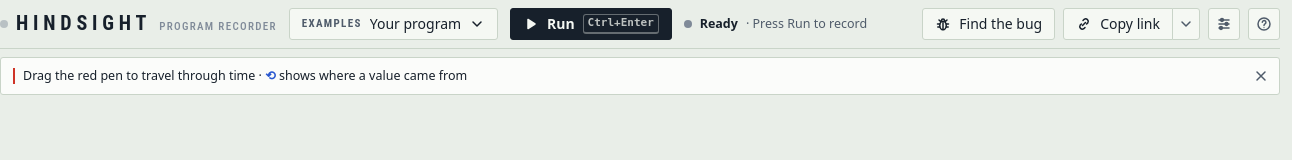
Test case: Header › Copy link writes the share link to the clipboard
This screenshot has width=1292, height=160.
Step 1. Click the button with aria-label "Copy a link" → (1118,24), box [1063,8,1173,40]
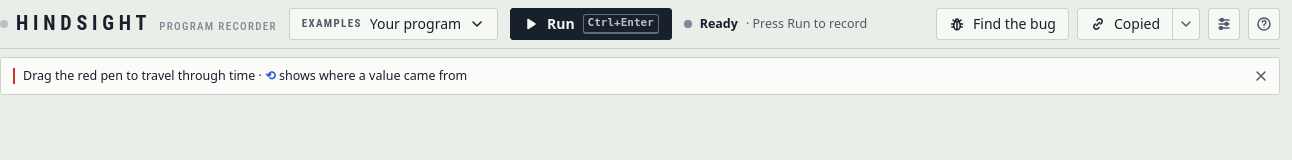
Now the button with aria-label "Link copied" is shown, box [1077,8,1173,40]
